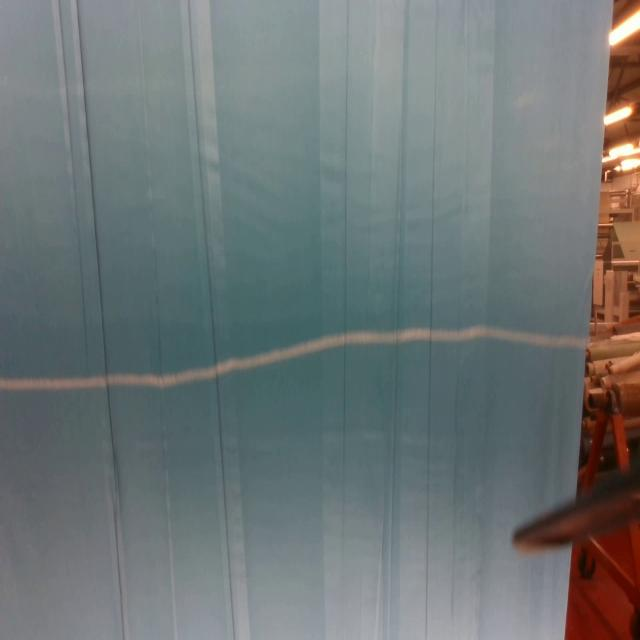crease: (52, 1, 128, 640), (186, 0, 241, 640), (137, 0, 179, 640), (384, 0, 410, 639), (425, 0, 439, 639), (338, 0, 352, 635), (451, 306, 462, 624)
